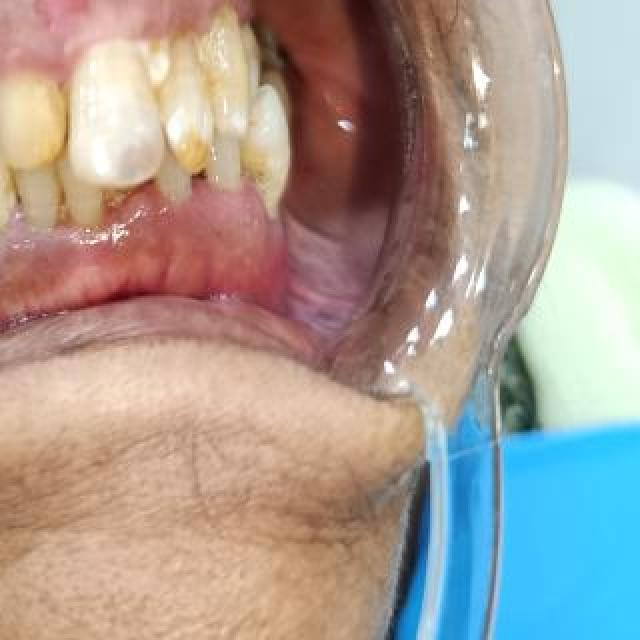calculus: (0, 166, 34, 244), (101, 184, 139, 236), (45, 188, 81, 240)
maligned: (233, 68, 301, 204)
plaque: (190, 0, 248, 44)
stains: (12, 75, 76, 171)
